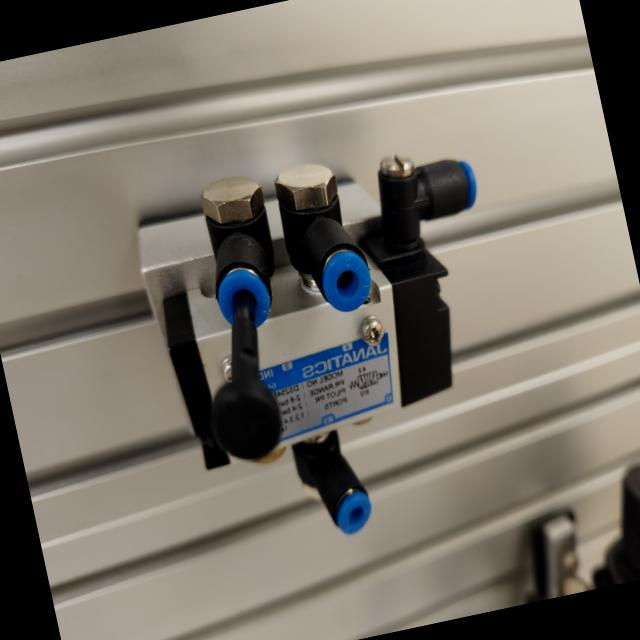5by2 DCV: (105, 117, 550, 577)
